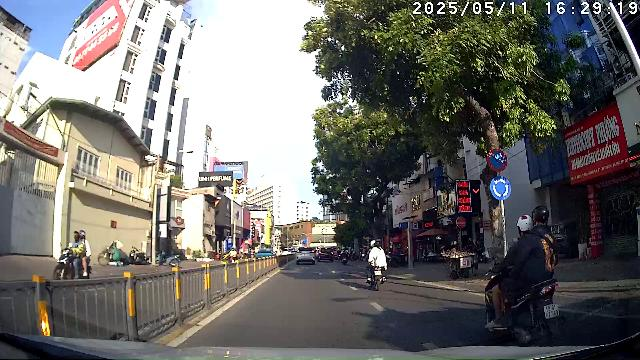131a-cam-do-xe: (486, 148, 508, 172)
303-noi-giao-nhau-chay-theo-vong-xuyen: (490, 176, 512, 201)
